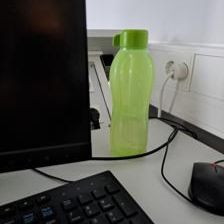bottle: (105, 27, 153, 161)
